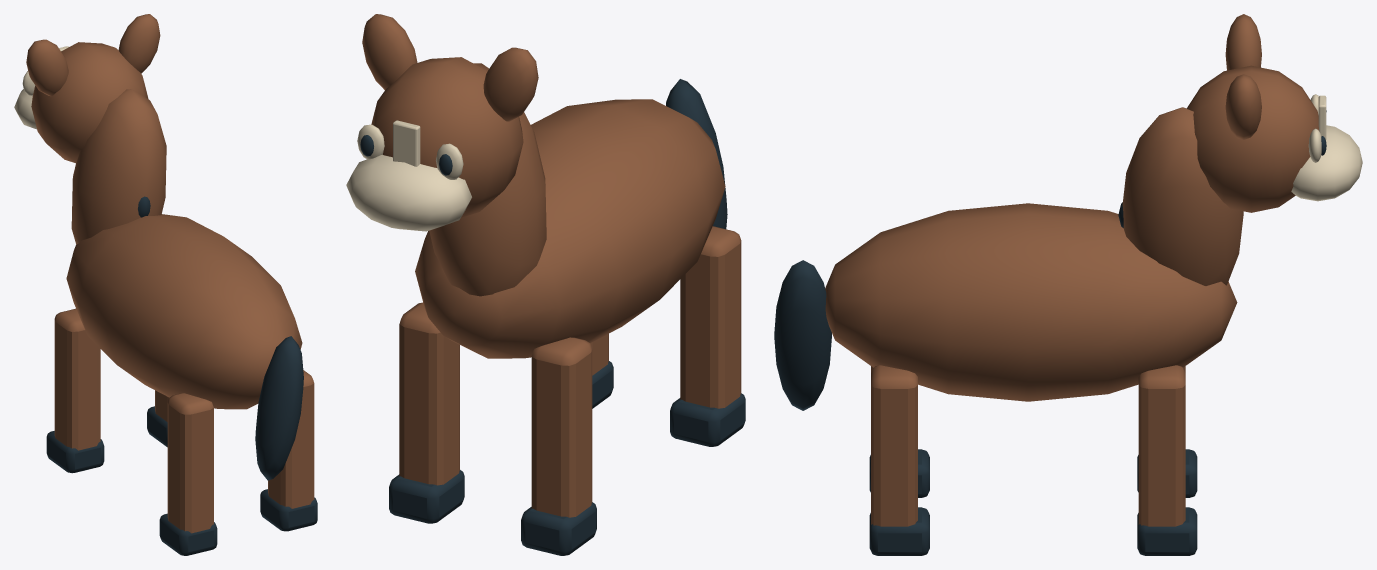
File: horse.glb
The picture shows the model from 3 angles, left to right: view 1: azimuth 30°, elevation 25°; view 2: azimuth 150°, elevation 25°; view 3: azimuth 270°, elevation 25°; orthographic projection. The views are drawn at different scales.
Visible parts, largest first — view 1: horse.001; view 2: horse.001; view 3: horse.001.
Part boxes in pixels (left/top/right/bottom): horse.001: left=14, top=14, right=317, bottom=555; horse.001: left=346, top=14, right=745, bottom=555; horse.001: left=774, top=14, right=1362, bottom=555.
Bounding box in the file's own units: 1 × 2.44 × 2.75.
